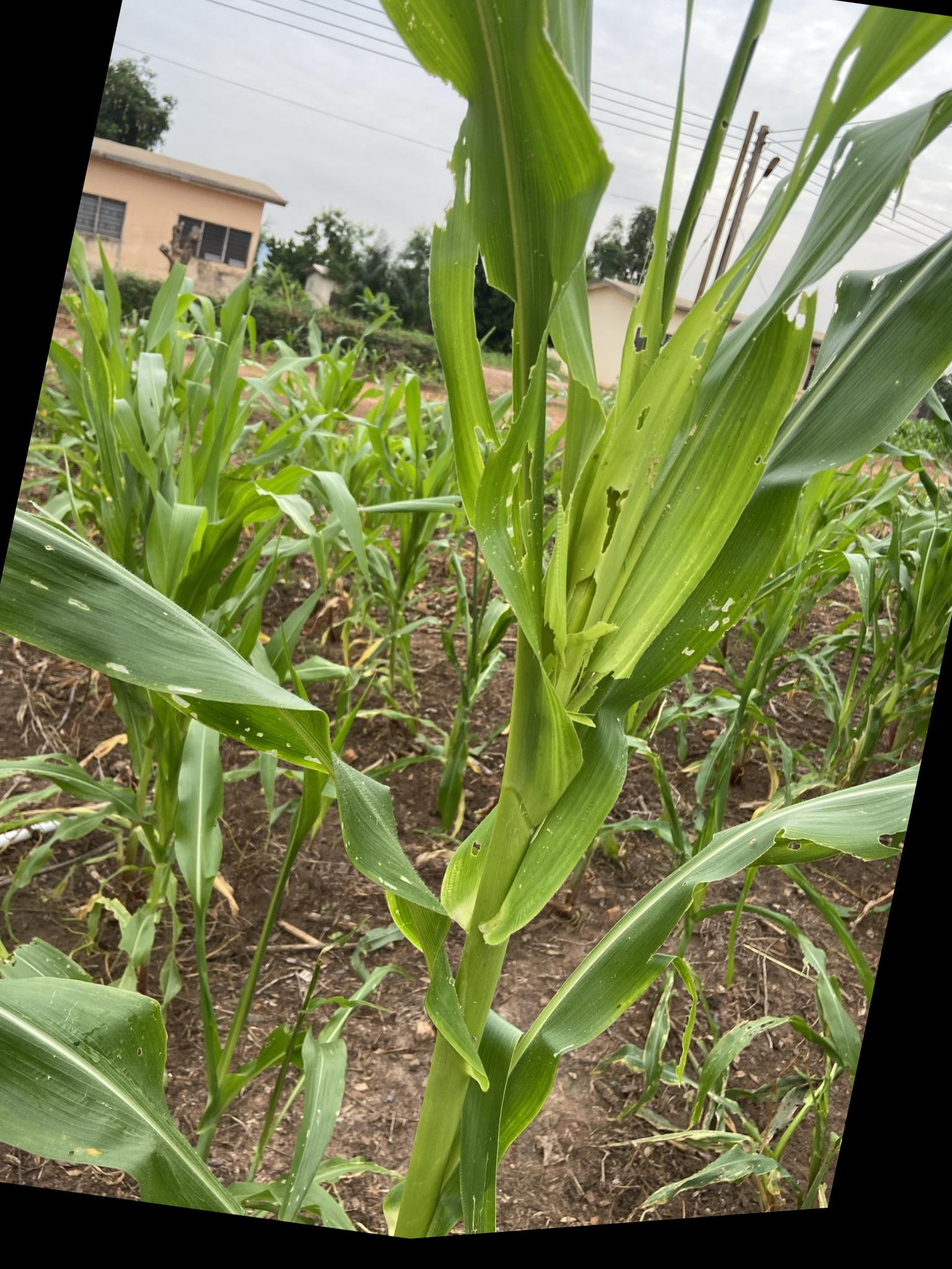early_to_moderate: (628, 582, 749, 721)
severe: (126, 651, 394, 811), (400, 80, 517, 312), (464, 332, 567, 529), (667, 234, 786, 393), (614, 216, 702, 418), (770, 46, 860, 215), (542, 651, 647, 762), (736, 275, 848, 366), (522, 600, 619, 690), (571, 465, 642, 574), (519, 494, 589, 589), (809, 125, 868, 227), (751, 821, 824, 885), (857, 812, 911, 884), (332, 0, 430, 39), (431, 830, 487, 890), (629, 403, 672, 452)
